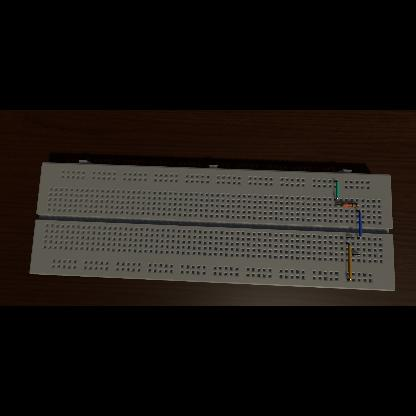breadboard: (29, 160, 394, 291)
resistor: (341, 203, 357, 208)
wire: (346, 243, 352, 281), (356, 211, 362, 239), (334, 180, 338, 199), (334, 204, 342, 206), (352, 254, 360, 256), (346, 237, 354, 238), (358, 206, 360, 206)
